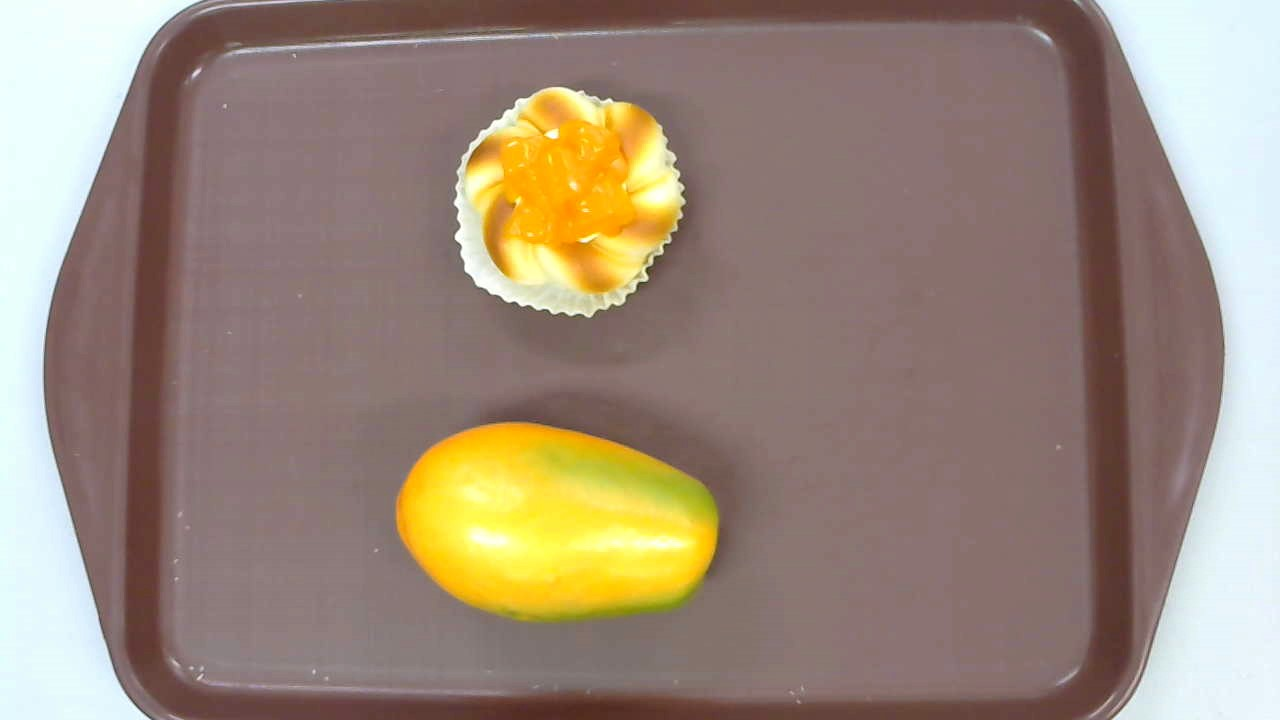mango tart: (453, 85, 688, 319)
papya: (395, 422, 719, 622)
